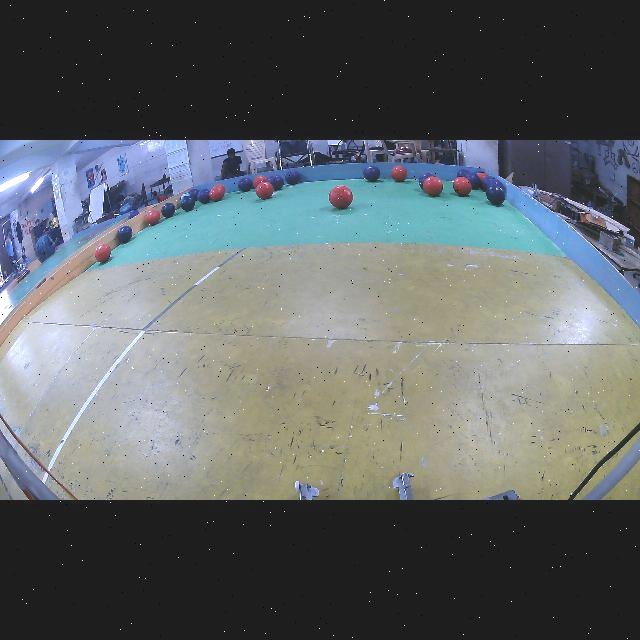P: (486, 185, 505, 205), (118, 225, 132, 244), (465, 172, 481, 188), (161, 202, 176, 219), (419, 172, 434, 189), (285, 170, 301, 185), (364, 166, 380, 181), (180, 196, 195, 211), (269, 175, 284, 189), (481, 175, 495, 190), (486, 179, 505, 190), (238, 178, 252, 191), (198, 189, 210, 204), (189, 188, 199, 201), (456, 169, 470, 178), (129, 210, 139, 218)
R: (329, 185, 352, 209), (422, 176, 444, 196), (452, 176, 471, 196), (256, 181, 274, 200), (95, 244, 111, 262), (391, 166, 408, 182), (210, 186, 225, 201), (146, 209, 160, 225), (252, 175, 268, 188), (212, 182, 225, 191), (478, 172, 488, 182)
